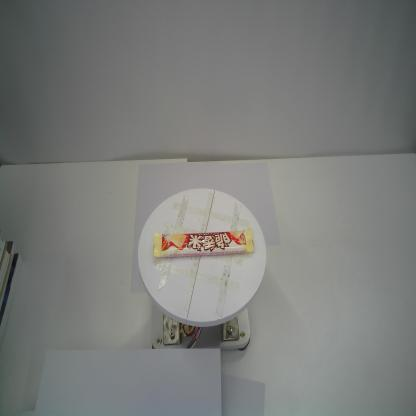Chocolate: (151, 229, 256, 260)
